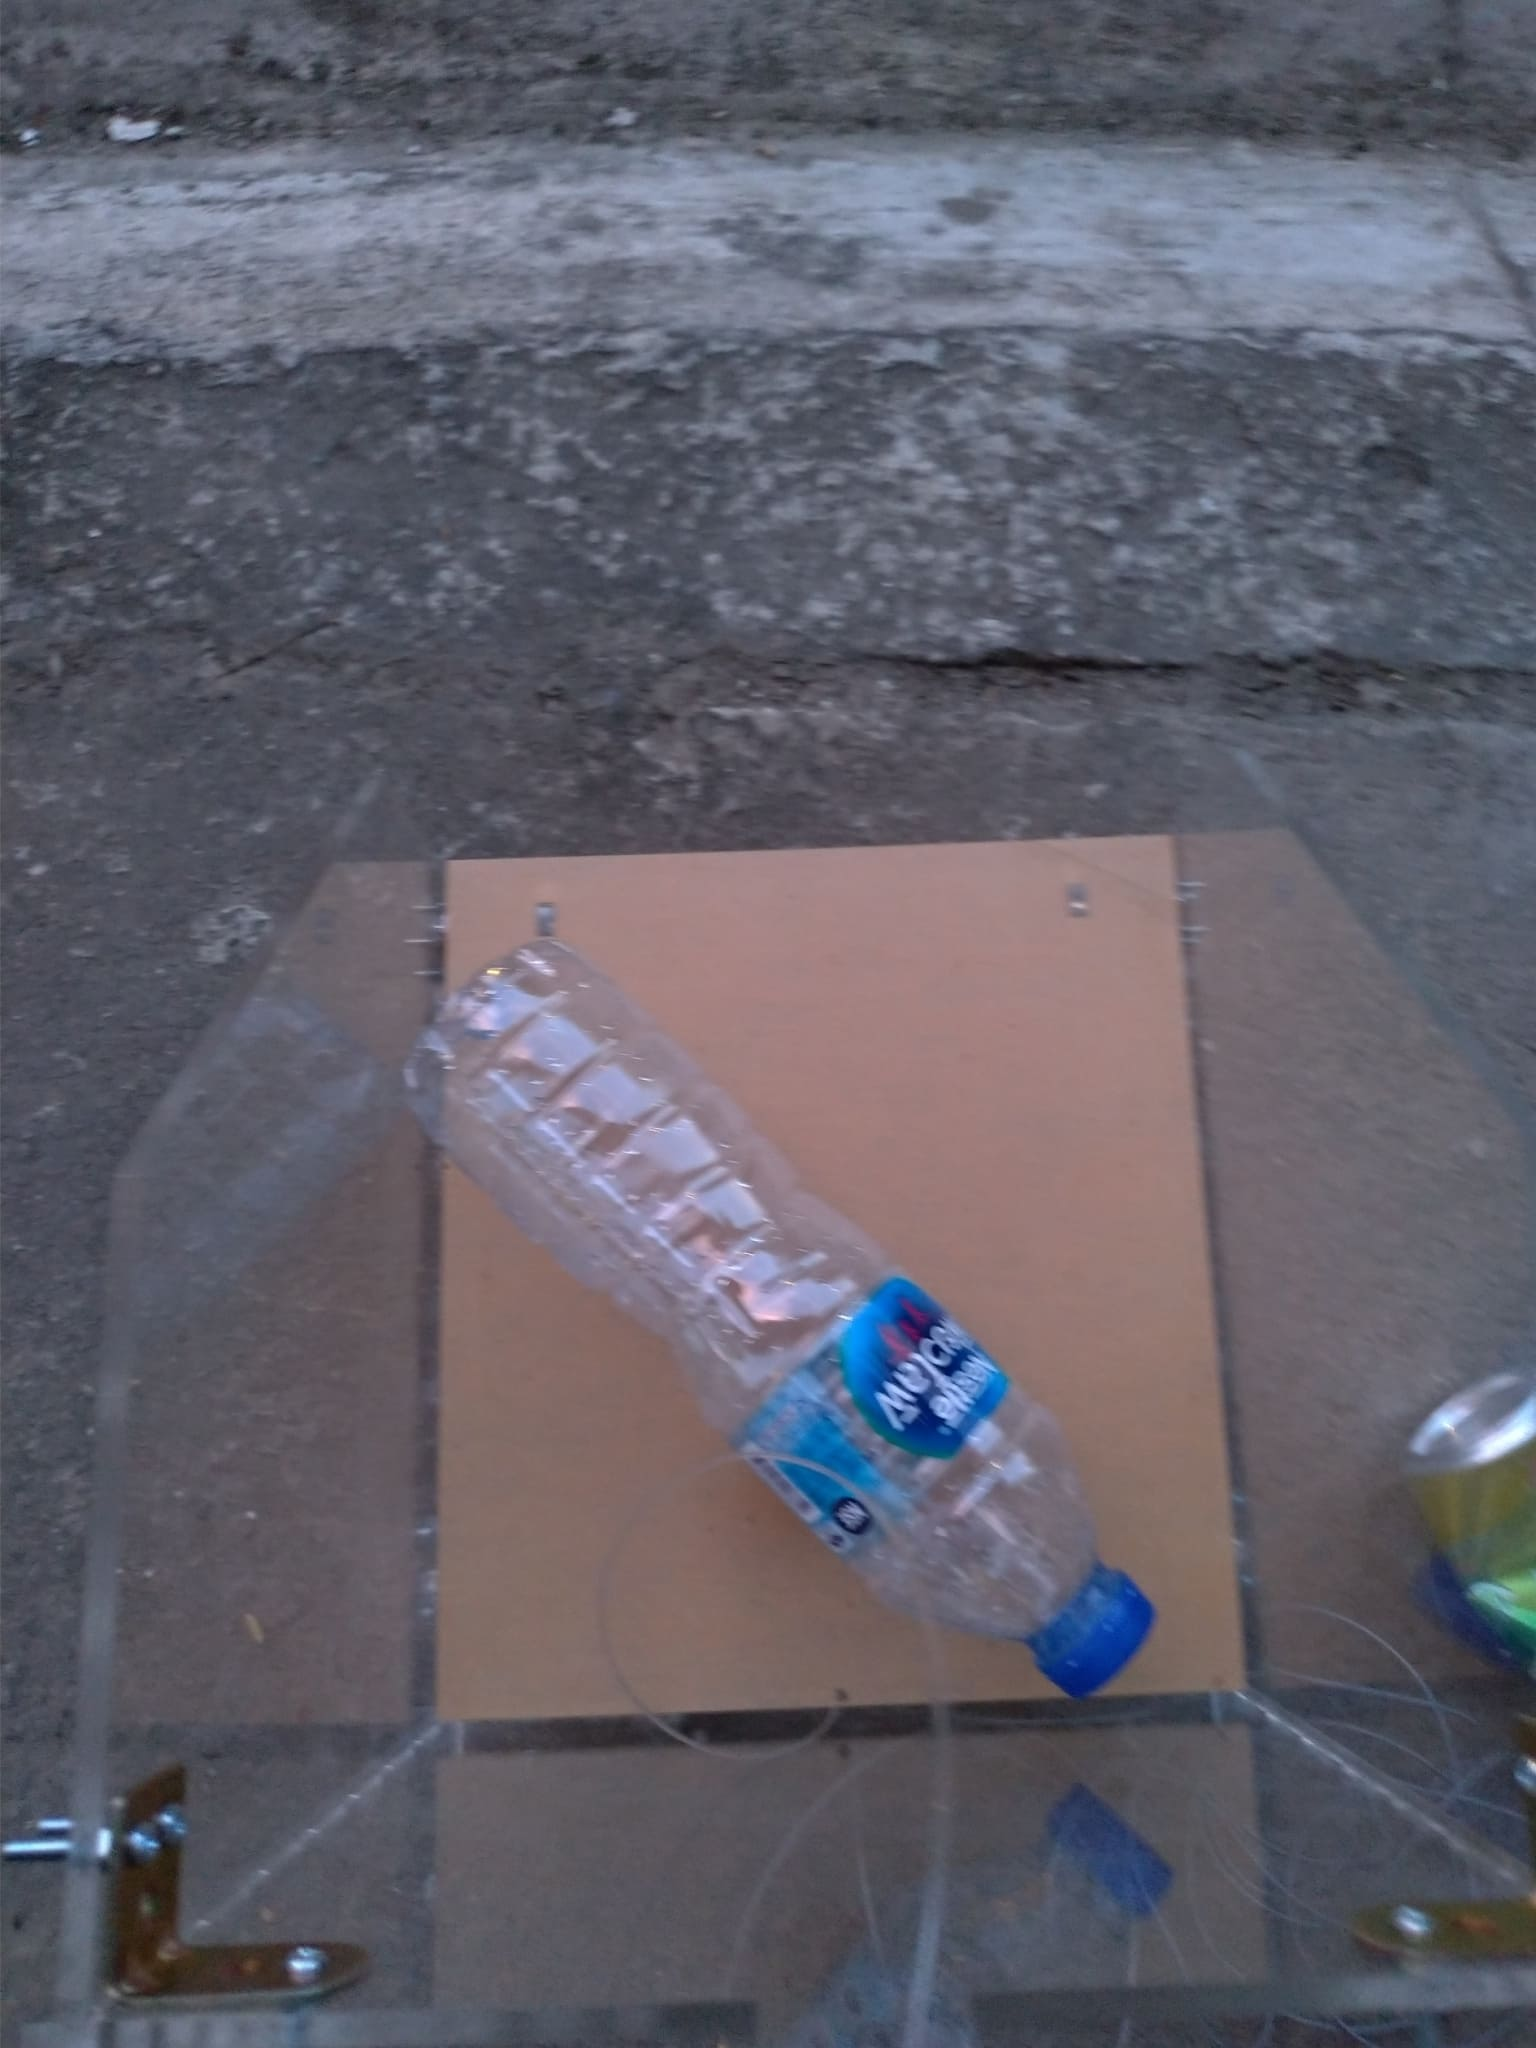PlasticBottle: (399, 942, 1155, 1693)
